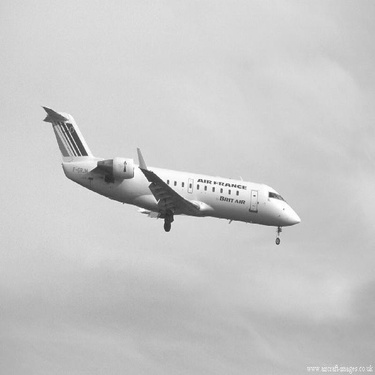airplane: (39, 100, 308, 250)
